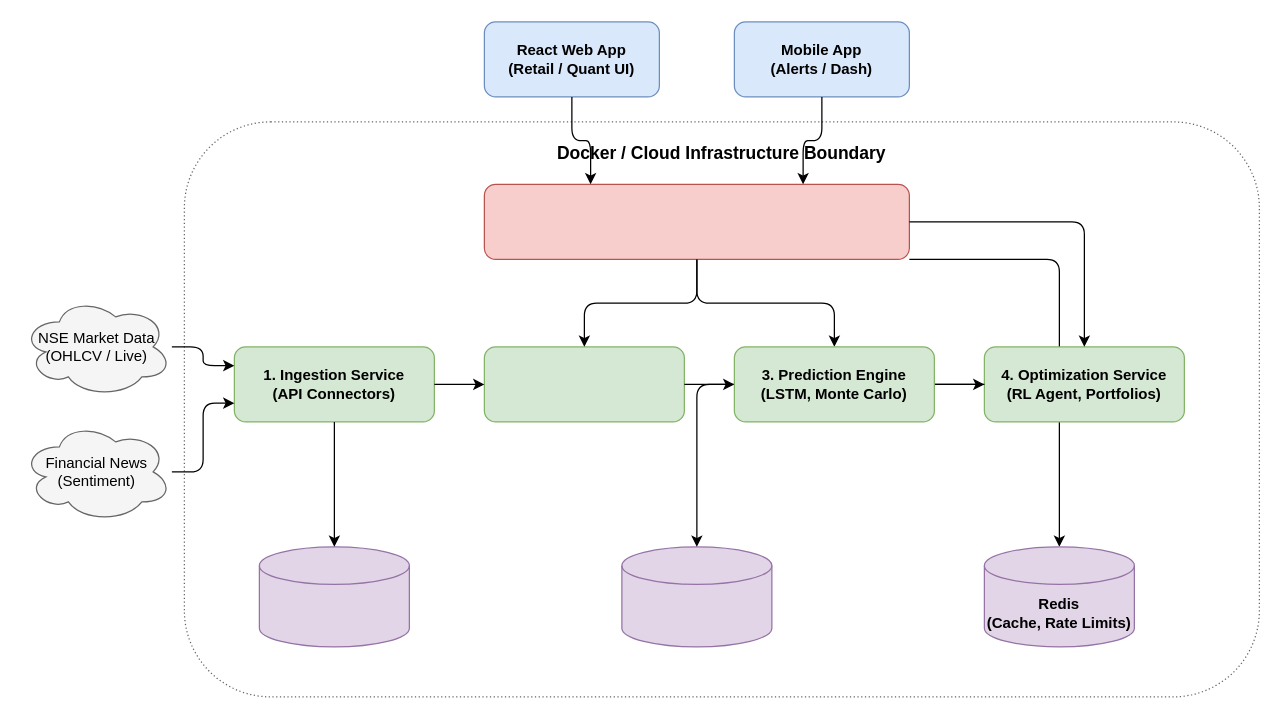
Image size: 1281x719. Some labels were removed from this diagram. The shapes that lost their labels are listed below. From the top down, each one's box as (x1, y1, x2, y2) in pixels, then its label:
(483, 183, 909, 259): FastAPI Gateway & WAF (JWT Auth, Rate Limit, CORS, RBAC)
(483, 346, 684, 422): 2. Processing Service (TA-Lib, HuggingFace)
(258, 546, 409, 647): TimescaleDB (Time-Series OHLCV)
(621, 546, 772, 647): PostgreSQL (Users, Portfolios)
